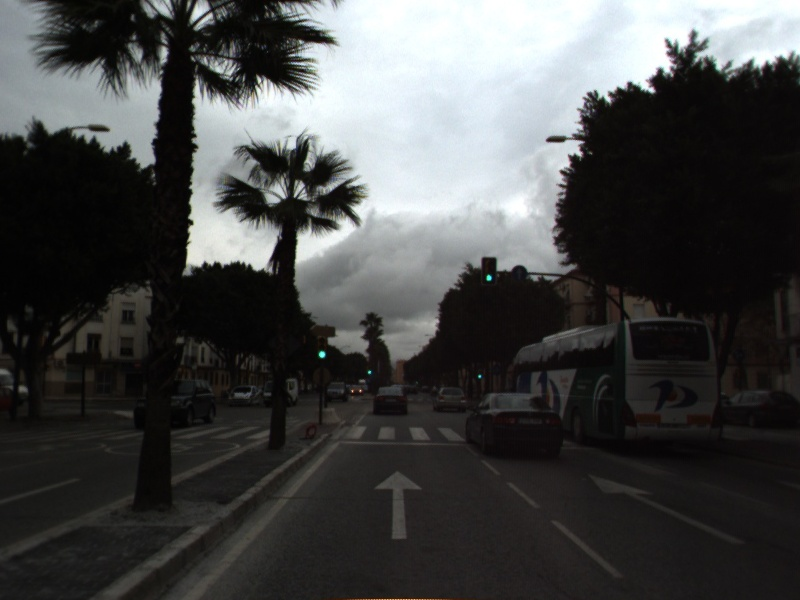STRAIGHT: (586, 472, 748, 547), (372, 468, 425, 541)
